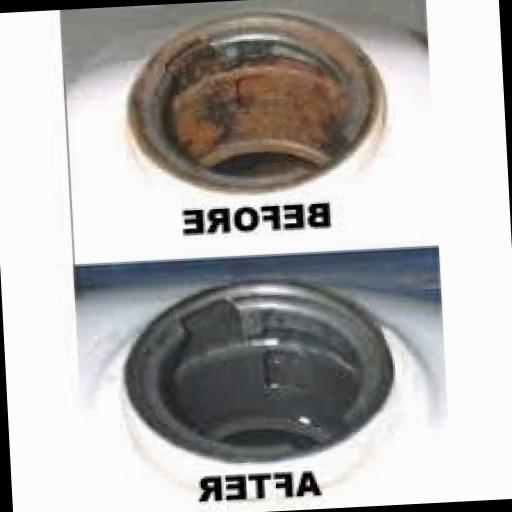segmentation: (132, 13, 377, 188)
